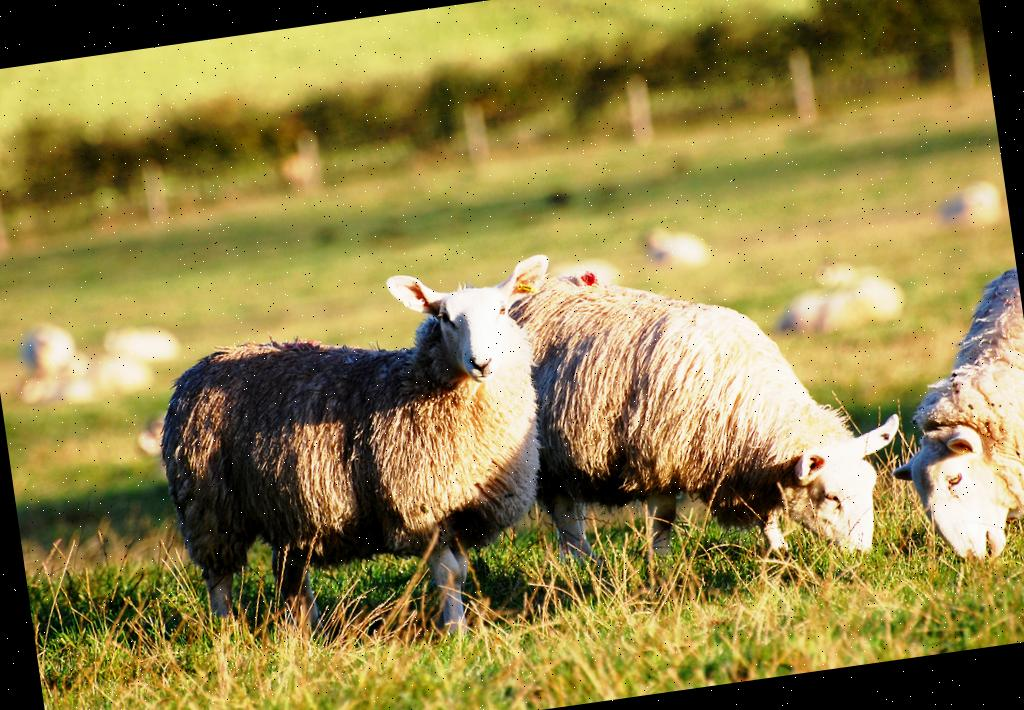Sheep: (140, 252, 602, 671), (511, 226, 919, 614), (865, 265, 1024, 568)
